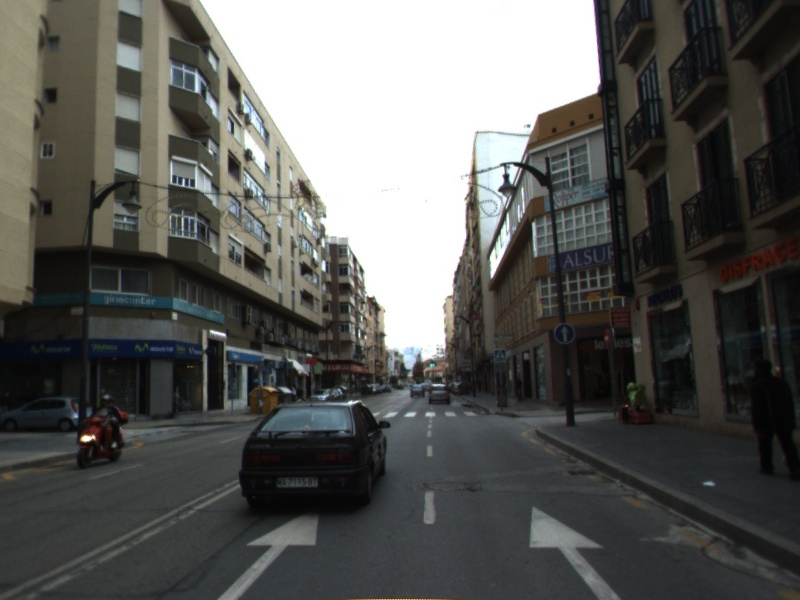STRAIGHT: (211, 505, 325, 600), (527, 502, 630, 600)
